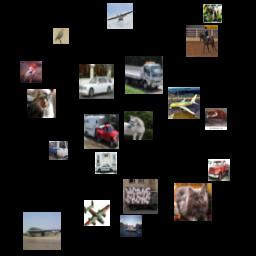airplane: (23, 212, 61, 250), (168, 87, 200, 119), (84, 200, 110, 226), (107, 3, 133, 29)
automobile: (79, 64, 114, 99), (95, 152, 117, 174)
bird: (20, 61, 42, 83), (53, 28, 69, 44)
cat: (174, 183, 212, 221), (27, 89, 56, 118), (205, 108, 227, 130)
dog: (203, 4, 222, 23)
ship: (120, 215, 142, 237)
truck: (125, 56, 163, 94), (84, 114, 119, 149), (123, 179, 158, 214), (208, 159, 230, 181), (49, 141, 68, 160)
